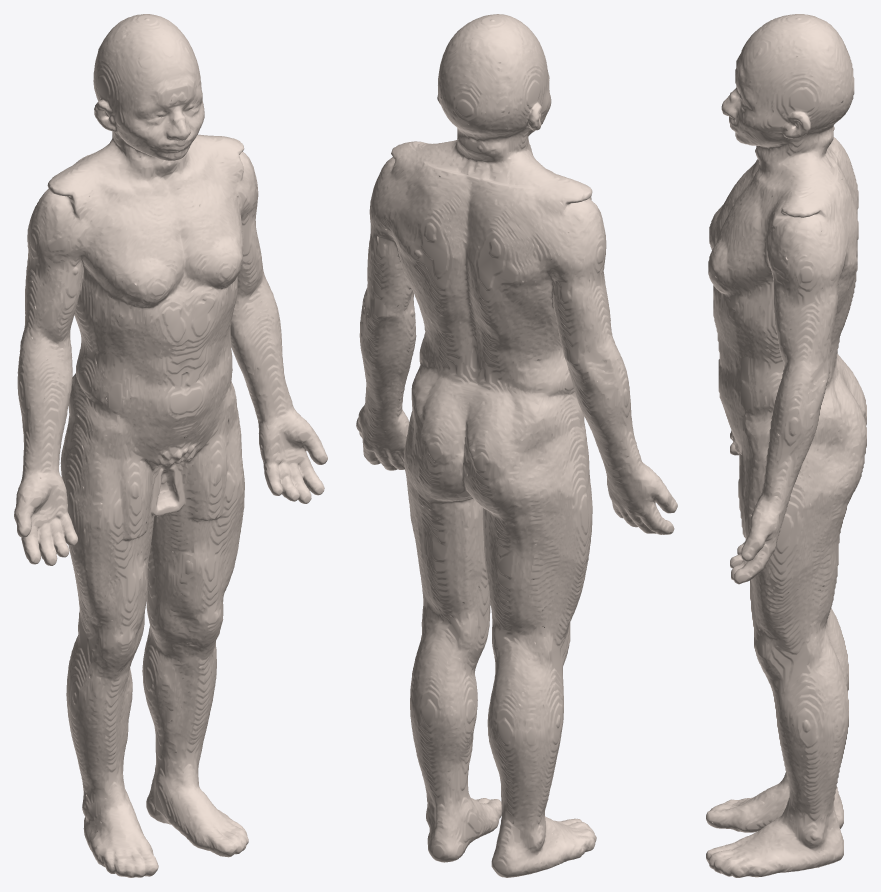
The model's file is skin-female-candidate.glb.
3 renders of one model, left to right at view 1: azimuth 30°, elevation 25°; view 2: azimuth 150°, elevation 25°; view 3: azimuth 270°, elevation 25°, orthographic. The views are drawn at different scales.
Visible parts, largest first — view 1: Female fitted skin; view 2: Female fitted skin; view 3: Female fitted skin.
Boxes of the visible parts, <box> form: Female fitted skin: <box>14,14,327,877</box>; Female fitted skin: <box>356,14,677,877</box>; Female fitted skin: <box>706,14,866,877</box>.
Size of the model in its own units: 0.6904 by 1.75 by 0.3084.
